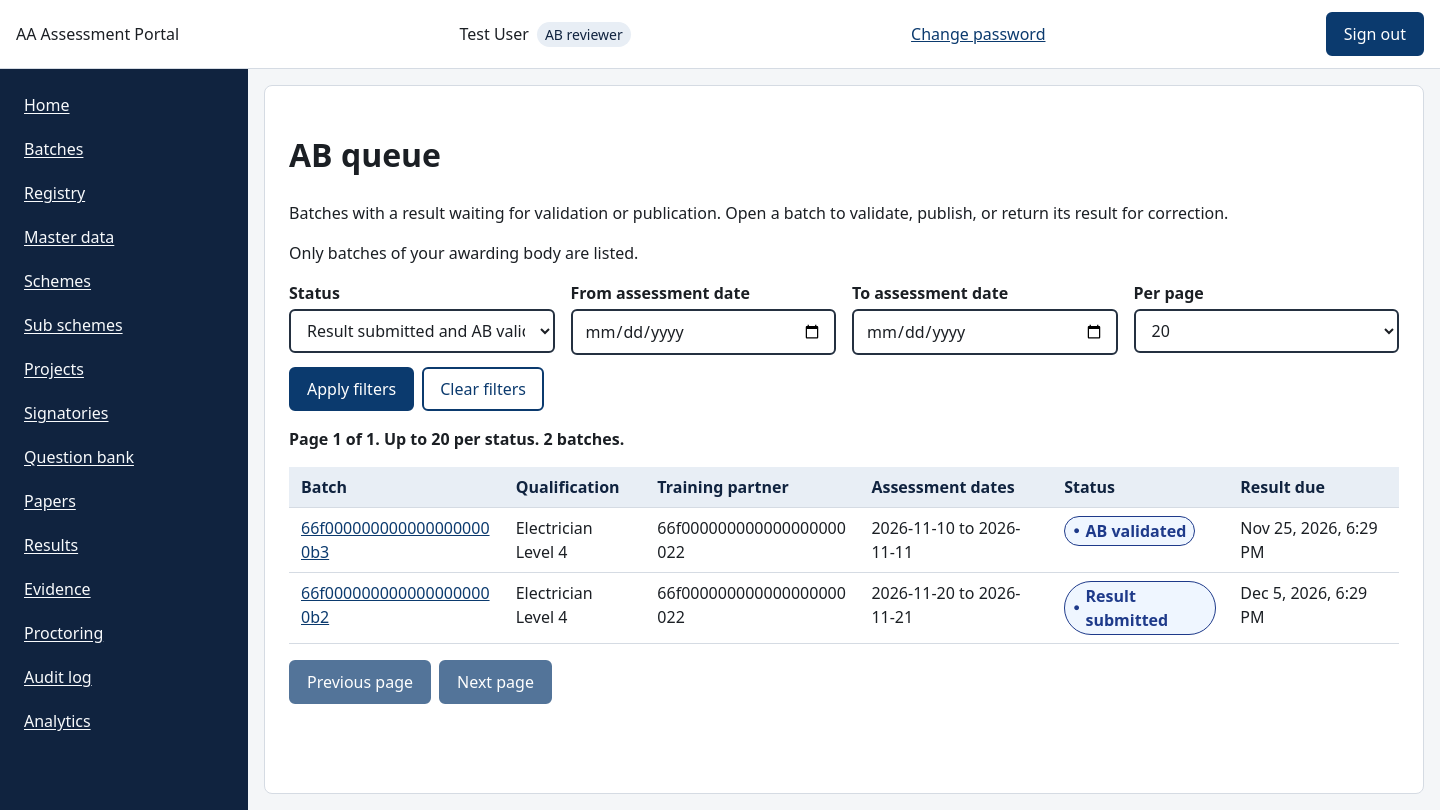
Test: filters by one status and by assessment date range, and sends the page size
Expected: the link "66f0000000000000000000b2" is shown, x1=301 y1=582 x2=490 y2=628
Select "AB validated" in the dropdown labelled "Status". click: (422, 331)
box: x1=289 y1=309 x2=554 y2=353
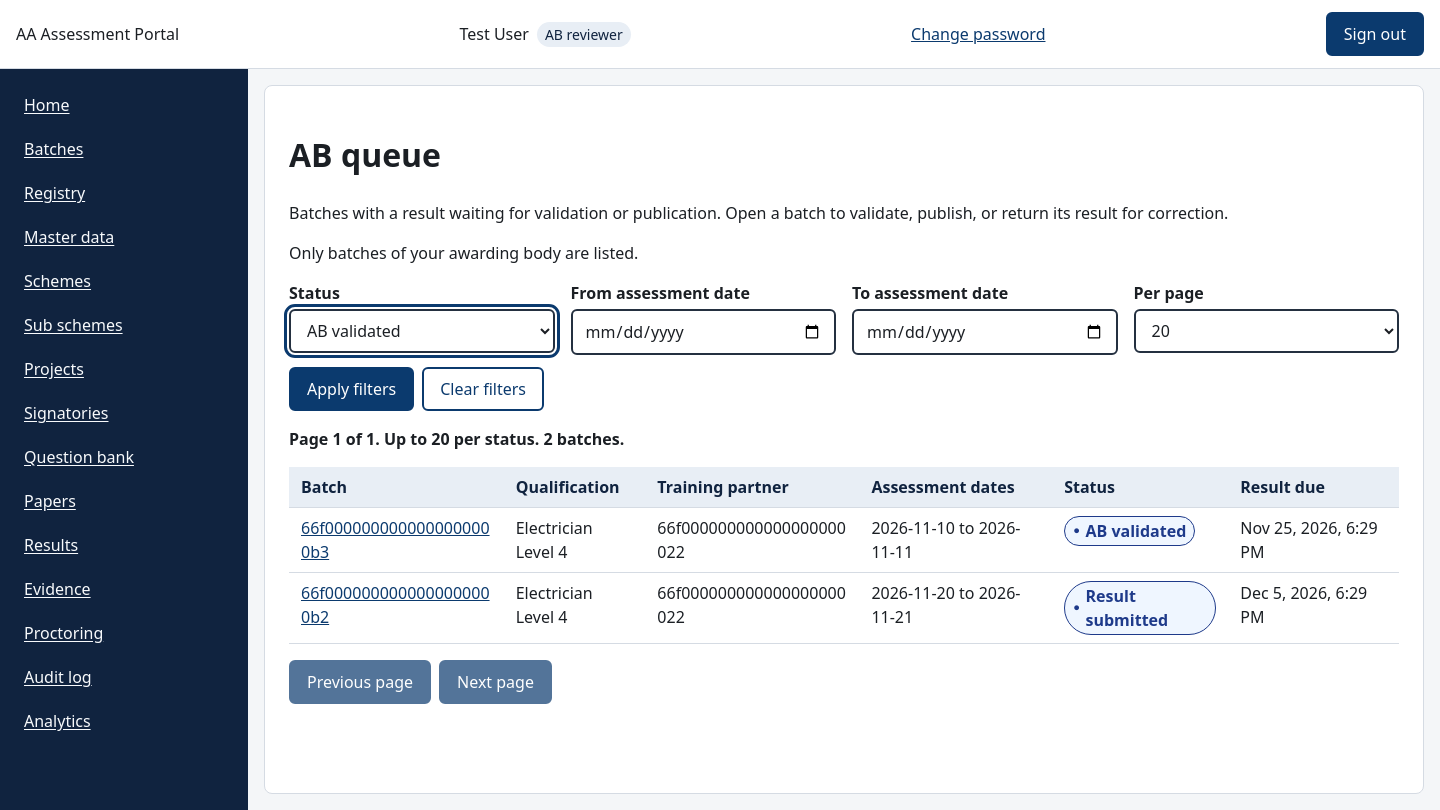
Type "2026-11-01" into the date field labelled "From assessment date". click: (703, 332)
box: x1=570 y1=309 x2=836 y2=355
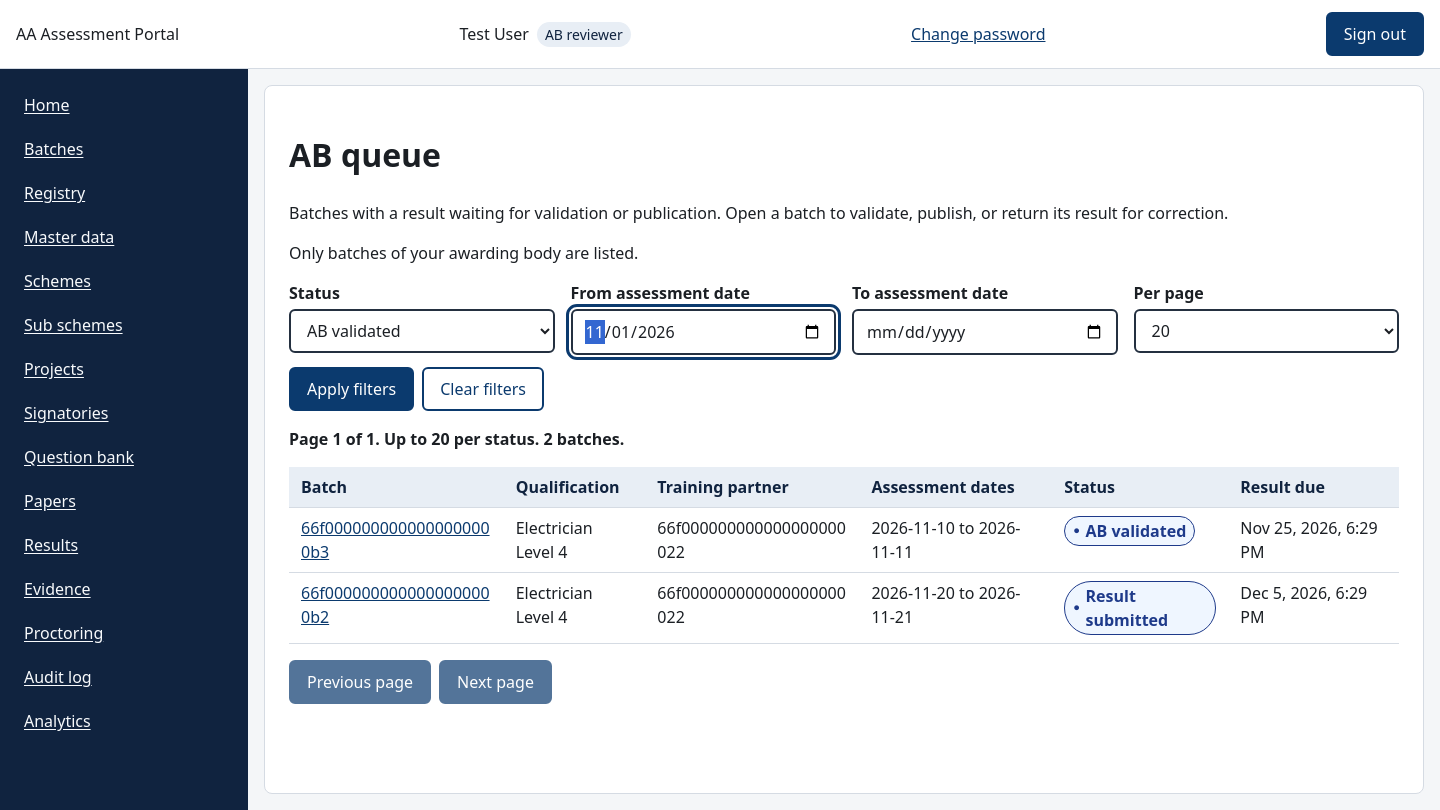
Type "2026-11-30" into the date field labelled "To assessment date". click: (985, 332)
box: x1=852 y1=309 x2=1118 y2=355
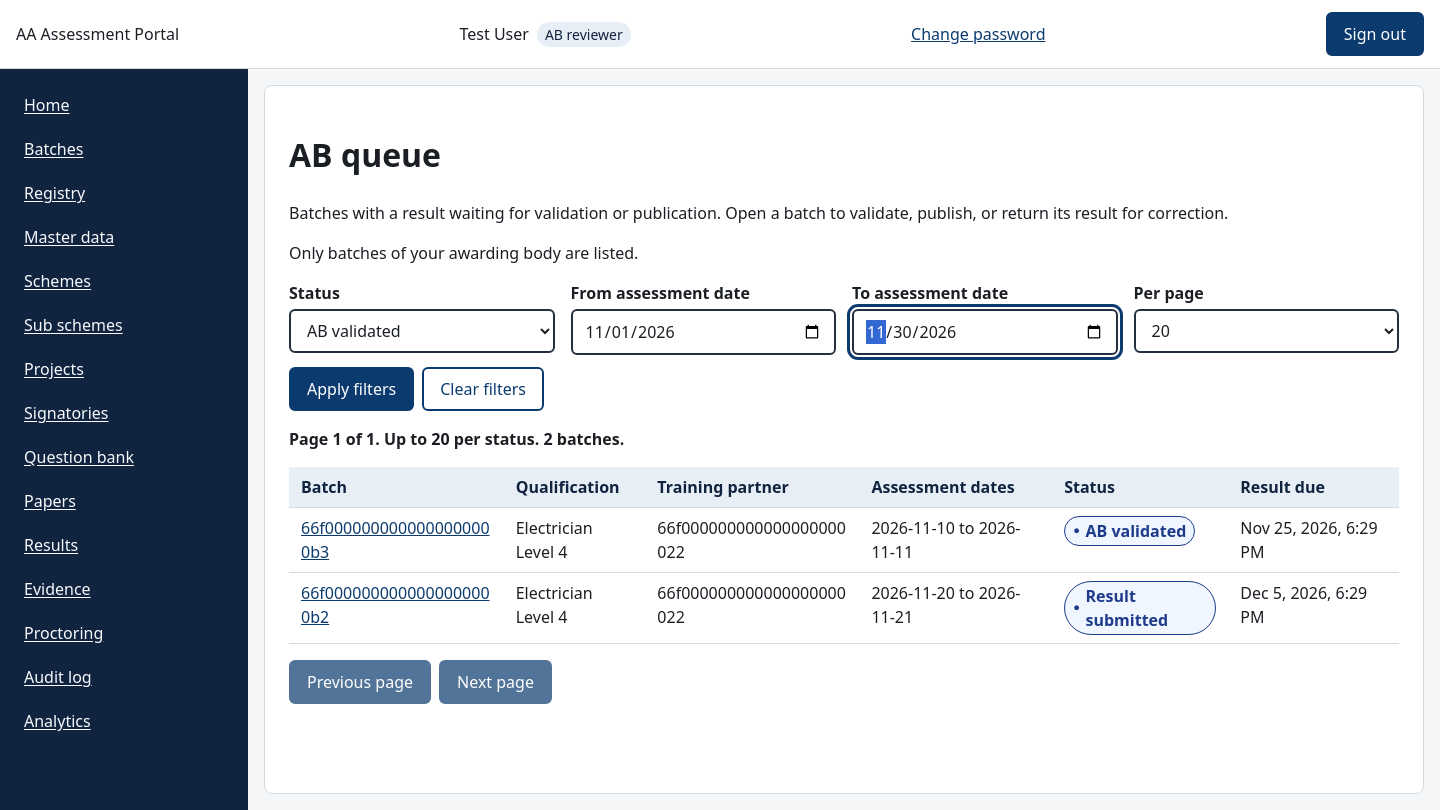
Select "50" in the dropdown labelled "Per page". click: (1266, 331)
box: x1=1134 y1=309 x2=1399 y2=353
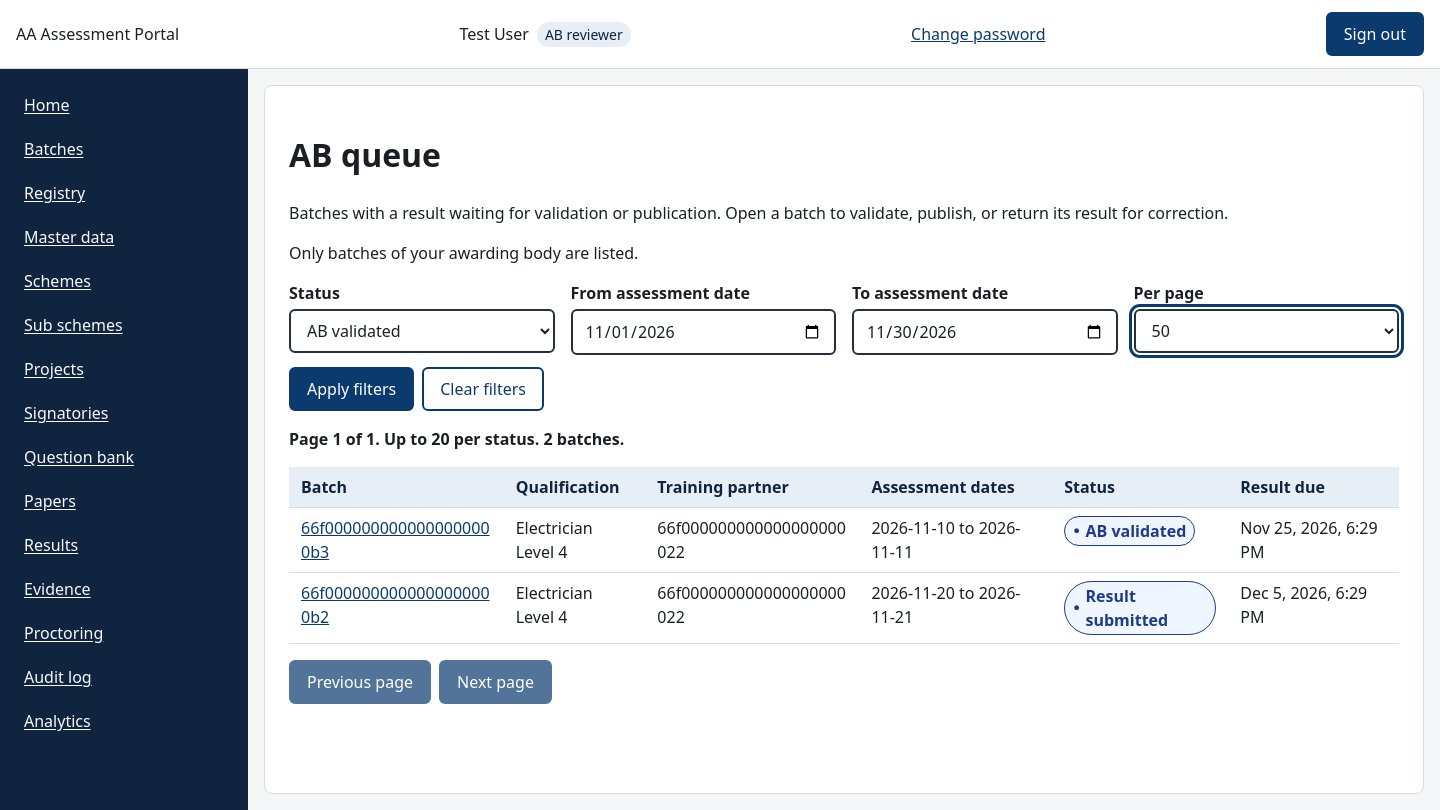
Click the button "Apply filters". click: click(352, 389)
box: x1=289 y1=367 x2=414 y2=411
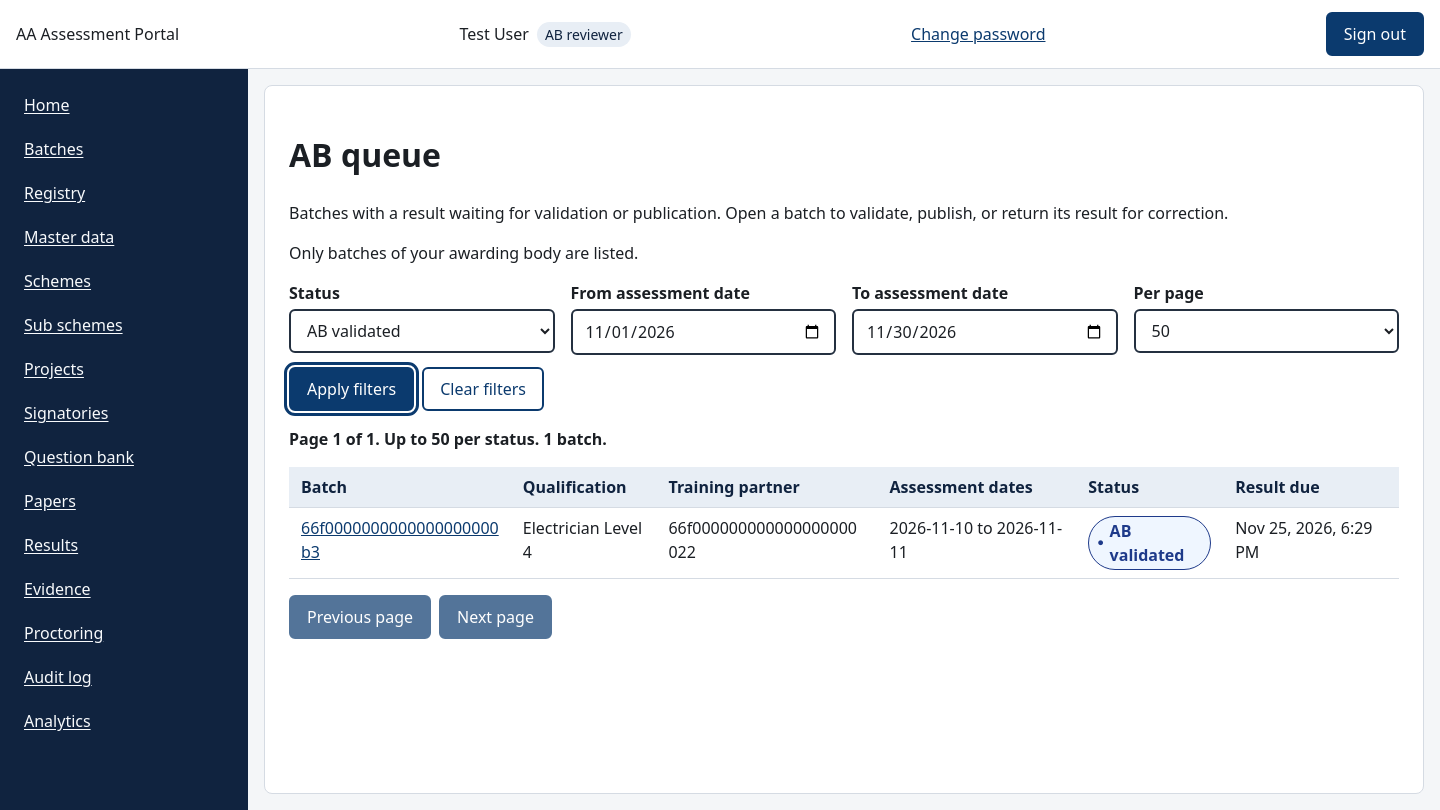
Expected: the text "AB validated" is shown, x1=1110 y1=520 x2=1184 y2=566
Result: the number of rows is 2 at x1=289 y1=467 x2=1399 y2=507; x1=289 y1=507 x2=1399 y2=578
